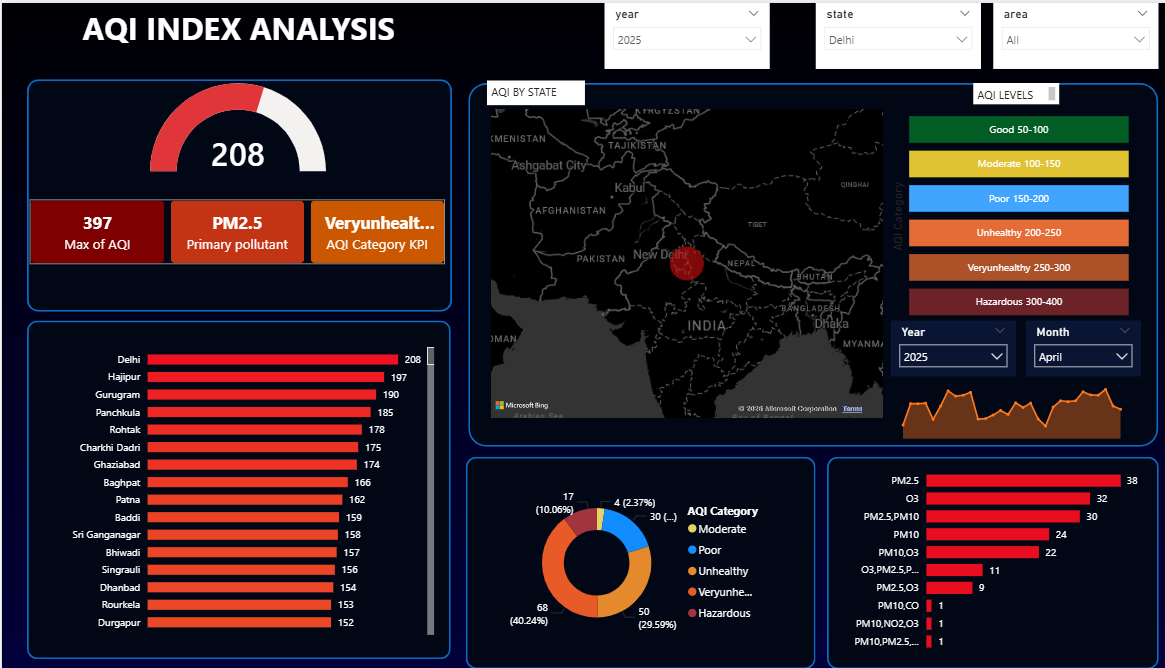

What the dashboard file says about the page in this screenshot:
{"tool":"powerbi","page":{"name":"AQI INDEX ANALYSIS","canvas":[1400,800],"ordinal":0},"visuals":[{"type":"shape","box":[30,91.6,510.3,279.2],"z":0},{"type":"textbox","box":[91.6,0,385.7,67.5],"z":1000},{"type":"gauge","fields":{"Y":["day_wise_aqi_data.AVERAGE AQI"]},"box":[133.6,91.6,300.2,115.6],"z":2000},{"type":"slicer","fields":{"Values":["Calendar Table.year"]},"box":[723.4,0,198.1,79.5],"z":3000},{"type":"slicer","fields":{"Values":["day_wise_aqi_data.state"]},"box":[977.1,0,198.1,79.5],"z":4000},{"type":"slicer","fields":{"Values":["day_wise_aqi_data.area"]},"box":[1190.2,0,198.1,79.5],"z":5000},{"type":"cardVisual","fields":{"Data":["Max(day_wise_aqi_data.aqi_value)","day_wise_aqi_data.Primary pollutant","day_wise_aqi_data.AQI Category KPI"]},"box":[28.5,231.1,510.3,87.1],"z":6000},{"type":"shape","box":[559.8,96.1,828.5,436.8],"z":7000},{"type":"map","fields":{"Category":["day_wise_aqi_data.state"],"Size":["day_wise_aqi_data.AVERAGE AQI"]},"box":[582.3,123.1,480.3,379.7],"z":8000},{"type":"textbox","box":[582.7,93.1,117.3,29.8],"z":9000},{"type":"barChart","fields":{"Category":["day_wise_aqi_data.AQI Category"],"Y":["day_wise_aqi_data.label"]},"box":[1062.6,123.1,309.2,258.1],"z":10000},{"type":"textbox","box":[1166.2,96.1,103.6,25.5],"z":11000},{"type":"areaChart","fields":{"Category":["Calendar Table.Date.Variation.Date Hierarchy.Day"],"Y":["day_wise_aqi_data.AVERAGE AQI"]},"box":[1067.1,438.3,300.2,90.1],"z":12000},{"type":"slicer","fields":{"Values":["Calendar Table.Date.Variation.Date Hierarchy.Year"]},"box":[1067.1,381.2,150.1,67.5],"z":13000},{"type":"slicer","fields":{"Values":["Calendar Table.Date.Variation.Date Hierarchy.Month"]},"box":[1229.2,381.2,138.1,67.5],"z":14000},{"type":"shape","box":[30,381.2,508.8,406.7],"z":15000},{"type":"barChart","fields":{"Category":["day_wise_aqi_data.area"],"Y":["day_wise_aqi_data.AVERAGE AQI"]},"box":[42,400.7,481.8,363.2],"z":16000},{"type":"shape","box":[556.7,545,420,255],"z":17000},{"type":"donutChart","fields":{"Category":["day_wise_aqi_data.AQI Category"],"Y":["day_wise_aqi_data.COUNT OF ROWS"]},"box":[600,545,321.7,255],"z":18000},{"type":"shape","box":[990,545,398.3,255],"z":19000},{"type":"barChart","fields":{"Y":["day_wise_aqi_data.COUNT OF ROWS"],"Category":["day_wise_aqi_data.prominent_pollutants"]},"box":[1006.7,545,361.7,243.3],"z":20000}]}

Visuals, with their boxes in screenshot pixels (x1, y1, x2, y2), scaled from the page's 1400x800 canvas onto the 1165x668 screenshot:
shape: 25,76,450,310
textbox: 76,0,397,56
gauge - day_wise_aqi_data.AVERAGE AQI: 111,76,361,173
slicer - Calendar Table.year: 602,0,767,66
slicer - day_wise_aqi_data.state: 813,0,978,66
slicer - day_wise_aqi_data.area: 990,0,1155,66
cardVisual - Max(day_wise_aqi_data.aqi_value) x day_wise_aqi_data.Primary pollutant: 24,193,448,266
shape: 466,80,1155,445
map - day_wise_aqi_data.state x day_wise_aqi_data.AVERAGE AQI: 485,103,884,420
textbox: 485,78,582,103
barChart - day_wise_aqi_data.AQI Category x day_wise_aqi_data.label: 884,103,1142,318
textbox: 970,80,1057,102
areaChart - Calendar Table.Date.Variation.Date Hierarchy.Day x day_wise_aqi_data.AVERAGE AQI: 888,366,1138,441
slicer - Calendar Table.Date.Variation.Date Hierarchy.Year: 888,318,1013,375
slicer - Calendar Table.Date.Variation.Date Hierarchy.Month: 1023,318,1138,375
shape: 25,318,448,658
barChart - day_wise_aqi_data.area x day_wise_aqi_data.AVERAGE AQI: 35,335,436,638
shape: 463,455,813,667
donutChart - day_wise_aqi_data.AQI Category x day_wise_aqi_data.COUNT OF ROWS: 499,455,767,667
shape: 824,455,1155,667
barChart - day_wise_aqi_data.COUNT OF ROWS x day_wise_aqi_data.prominent_pollutants: 838,455,1139,658
